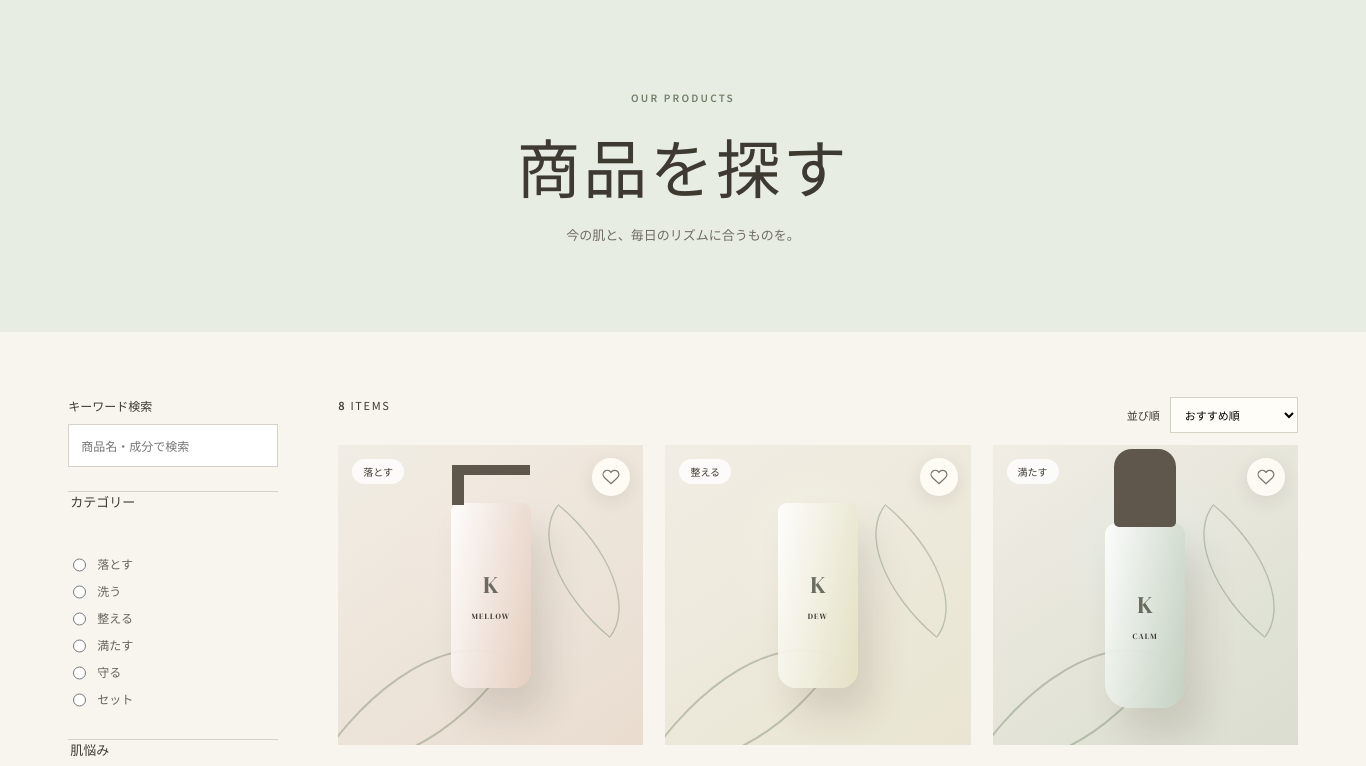
Test: ProductsPage › searches by ingredient and shows empty state
Type "ツボクサ" into the field with placeholder "商品名・成分で検索".
click(173, 446); type("ツボクサ")  # box [68, 424, 278, 467]
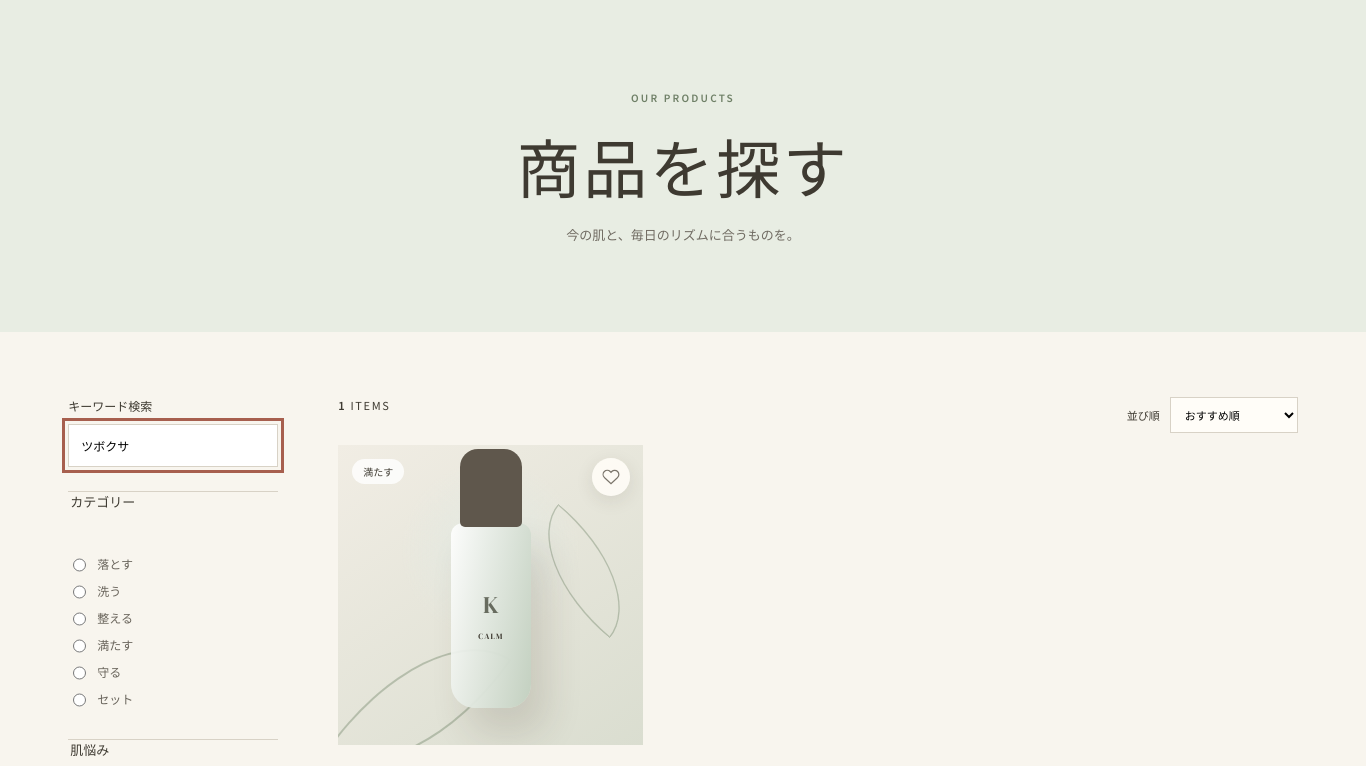
Replace the text in the field with placeholder "商品名・成分で検索" with "存在しない商品" at (173, 446), box [68, 424, 278, 467]
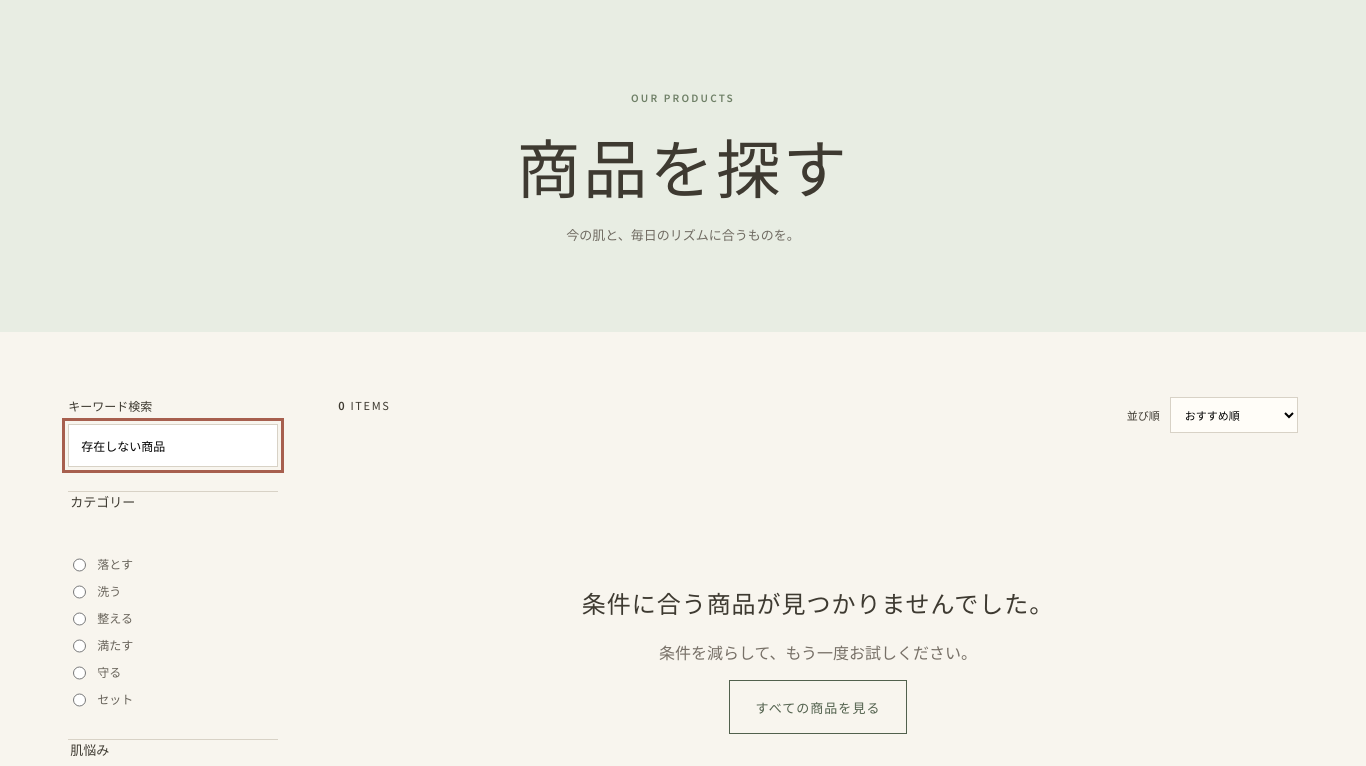
expect the heading "条件に合う商品が見つかりませんでした。" is shown: met, box [582, 586, 1054, 620]
